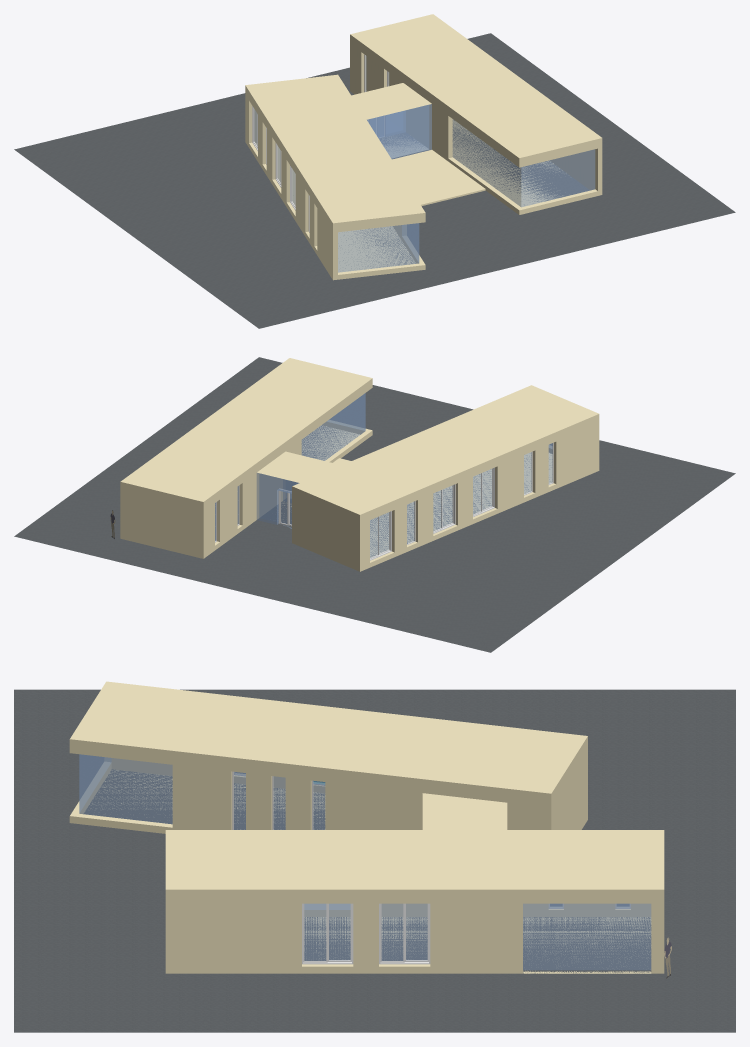
3 views of the same model, one above another, from view 1: azimuth 30°, elevation 25°; view 2: azimuth 150°, elevation 25°; view 3: azimuth 270°, elevation 25° (orthographic). The views are drawn at different scales.
Visible parts, largest first — view 1: Root Node, 5440, 5450, 6990, 7010, 7033, 5460, 7000; view 2: Root Node, 5450, 5440, 7010, 6990, W1 (×3), 5460, 7000, D1; view 3: Root Node, 5440, 5450, 6990, 7010, Component#1, W1 (×2), 7000, W3 (×3), 5460.
Part boxes in pixels (x1,y1,x2,y2): Root Node: [14, 33, 735, 328]; 5440: [350, 14, 602, 214]; 5450: [245, 74, 425, 280]; 6990: [357, 17, 594, 154]; 7010: [252, 77, 418, 220]; 7033: [392, 150, 485, 206]; 5460: [351, 83, 431, 159]; 7000: [353, 84, 428, 117]; Root Node: [14, 357, 735, 652]; 5450: [292, 385, 599, 571]; 5440: [120, 358, 372, 558]; 7010: [300, 388, 591, 511]; 6990: [128, 361, 364, 498]; W1 (×3): [370, 467, 494, 560]; 5460: [256, 451, 341, 528]; 7000: [260, 453, 337, 481]; D1: [278, 488, 291, 525]; Root Node: [14, 689, 735, 1032]; 5440: [165, 830, 664, 973]; 5450: [69, 681, 587, 833]; 6990: [173, 833, 656, 886]; 7010: [79, 685, 578, 789]; Component#1: [523, 903, 651, 970]; W1 (×2): [302, 903, 430, 964]; 7000: [430, 794, 499, 829]; W3 (×3): [232, 771, 325, 829]; 5460: [422, 793, 507, 829].
Size of the model in its own units: 31.56 by 3.6 by 28.09.
224 materials, 3 textured.
